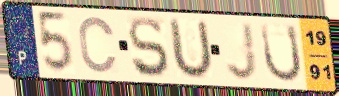5: (35, 9, 76, 77)
C: (77, 15, 120, 75)
J: (224, 21, 260, 83)
S: (126, 14, 172, 80)
U: (168, 16, 215, 81), (258, 21, 304, 85)
